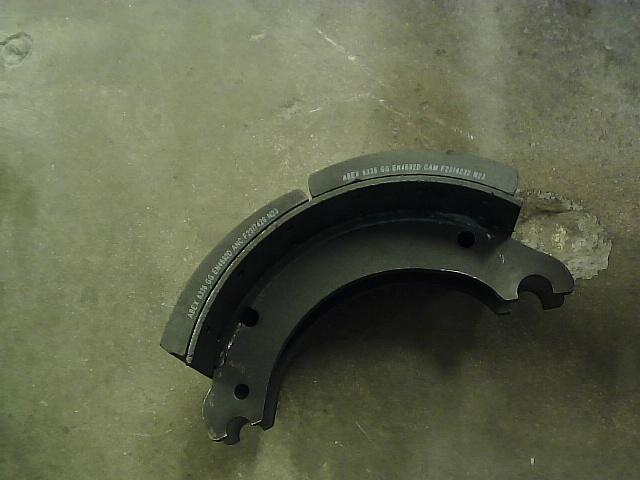brake-shoes: (160, 147, 575, 448)
